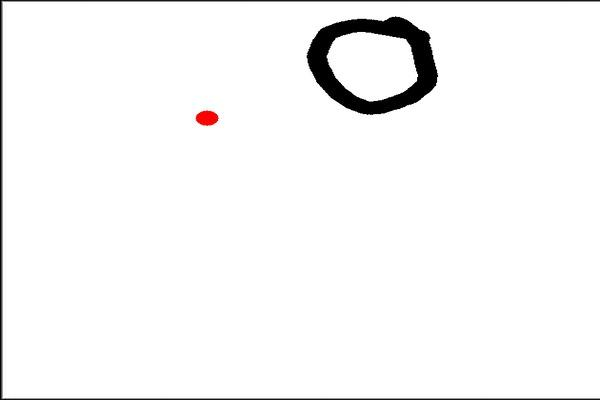O: (301, 10, 442, 124)
